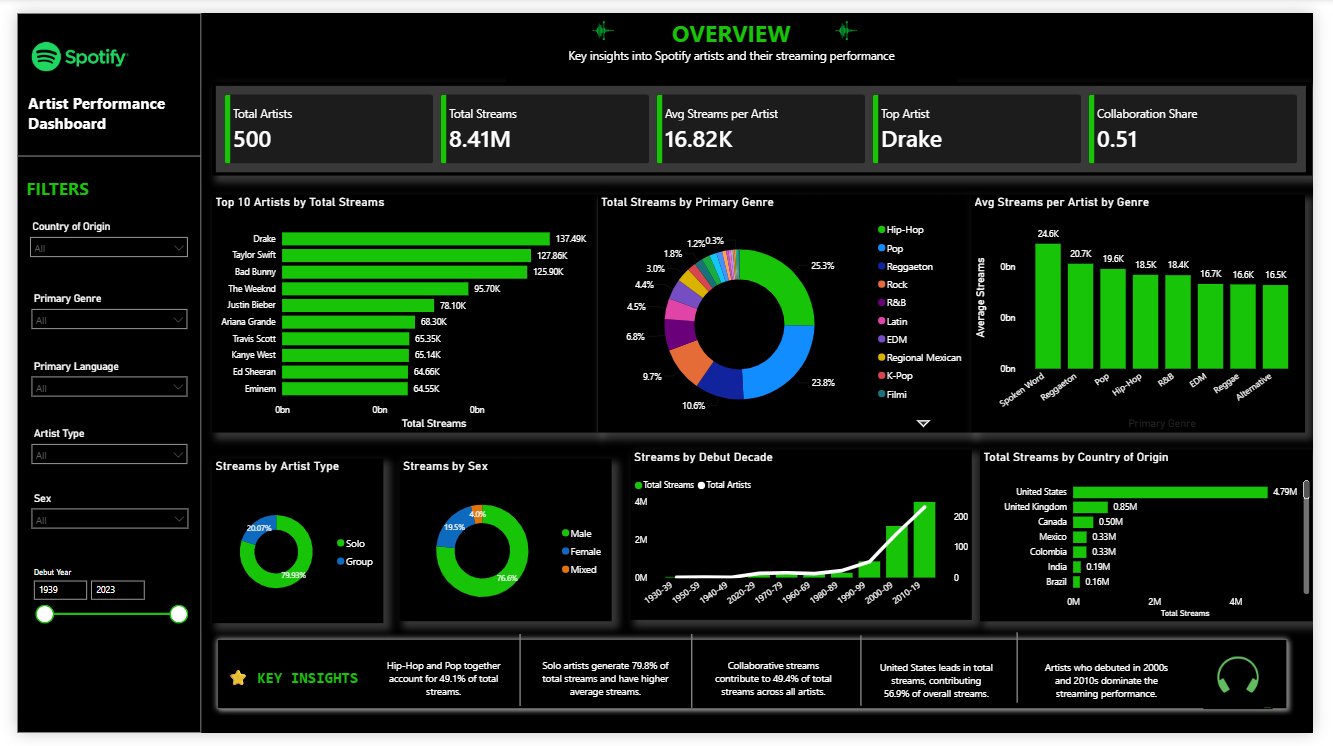

The dashboard page shown, as its layout file describes it:
{"tool":"powerbi","page":{"name":"Page 1","canvas":[1800,1000],"ordinal":0},"visuals":[{"type":"shape","box":[0,0,255.9,1000],"z":0},{"type":"image","box":[0,0,176.2,121.2],"z":1000},{"type":"textbox","box":[10,105,225,76.2],"z":2000},{"type":"slicer","fields":{"Values":["Most Streamed Artists on Spotif.Country of Origin"]},"box":[8.6,282.9,238.6,82.9],"z":3000},{"type":"shape","box":[0,170,255.7,55.7],"z":4000},{"type":"textbox","box":[8.6,221.4,237.1,61.4],"z":5000},{"type":"slicer","fields":{"Values":["Most Streamed Artists on Spotif.Primary Genre"]},"box":[10,382.9,235.7,77.1],"z":6000},{"type":"slicer","fields":{"Values":["Most Streamed Artists on Spotif.Primary Language"]},"box":[10,477.1,235.7,78.6],"z":7000},{"type":"slicer","fields":{"Values":["Most Streamed Artists on Spotif. Artist Type"]},"box":[10,570,235.7,75.7],"z":8000},{"type":"slicer","fields":{"Values":["Most Streamed Artists on Spotif.Sex"]},"box":[10,660,237.1,81.4],"z":9000},{"type":"slicer","fields":{"Values":["Most Streamed Artists on Spotif.Debut Year"]},"box":[11.4,764.3,235.7,95.7],"z":10000},{"type":"clusteredBarChart","title":"Top 10 Artists by Total Streams","fields":{"Y":["Most Streamed Artists on Spotif.Total Streams"],"Category":["Most Streamed Artists on Spotif.Artist Name"]},"box":[271.7,252.2,534.8,330.4],"z":11000},{"type":"donutChart","title":"Total Streams by Primary Genre","fields":{"Category":["Most Streamed Artists on Spotif.Primary Genre"],"Y":["Most Streamed Artists on Spotif.Total Streams"]},"box":[806.5,252.2,519.6,330.4],"z":12000},{"type":"clusteredColumnChart","title":"Avg Streams per Artist by Genre","fields":{"Category":["Most Streamed Artists on Spotif.Primary Genre"],"Y":["Most Streamed Artists on Spotif.Avg Streams per Artist"]},"box":[1325.7,252.6,464.1,330.9],"z":13000},{"type":"donutChart","title":"Streams by Artist Type","fields":{"Category":["Most Streamed Artists on Spotif.Artist Type"],"Y":["Most Streamed Artists on Spotif.Total Streams"]},"box":[270.8,619.4,237.9,228.4],"z":14000},{"type":"donutChart","title":"Streams by Sex","fields":{"Category":["Most Streamed Artists on Spotif.Sex"],"Y":["Most Streamed Artists on Spotif.Total Streams"]},"box":[532.2,619.4,294.4,226.1],"z":15000},{"type":"lineStackedColumnComboChart","title":"Streams by Debut Decade","fields":{"Category":["Most Streamed Artists on Spotif.Debut Decade Range"],"Y":["Most Streamed Artists on Spotif.Total Streams"],"Y2":["Most Streamed Artists on Spotif.Total Artists"]},"box":[851.8,607.1,473.9,237],"z":16000},{"type":"clusteredBarChart","fields":{"Category":["Most Streamed Artists on Spotif.Country of Origin"],"Y":["Most Streamed Artists on Spotif.Total Streams"]},"box":[1337.5,607.1,462.2,238.9],"z":17000},{"type":"cardVisual","fields":{"Data":["Most Streamed Artists on Spotif.Total Artists","Most Streamed Artists on Spotif.Total Streams","Most Streamed Artists on Spotif.Avg Streams per Artist","Most Streamed Artists on Spotif.Top Artist","Most Streamed Artists on Spotif.Collaboration Share"]},"box":[271.4,95.5,1528.3,130.2],"z":18000},{"type":"shape","box":[269.6,860.9,1504.3,115.2],"z":19000},{"type":"textbox","box":[678.3,0,626.1,95.7],"z":20000},{"type":"textbox","box":[286.5,903.1,197.8,45.7],"z":21000},{"type":"textbox","box":[506.5,891.3,172.5,70],"z":22000},{"type":"shape","box":[678.3,863,39.1,100],"z":23000},{"type":"textbox","box":[715.2,891.3,205,70],"z":24000},{"type":"shape","box":[921.7,863,32.5,102.5],"z":25000},{"type":"textbox","box":[954.3,891.3,192.5,70],"z":26000},{"type":"shape","box":[1152.2,865.2,40,97.5],"z":27000},{"type":"textbox","box":[1191.3,893.5,170,70],"z":28000},{"type":"shape","box":[1360.9,860.9,57.5,97.5],"z":29000},{"type":"textbox","box":[1417.4,893.5,192.5,70],"z":30000},{"type":"image","box":[1645.7,871.7,100,95.7],"z":31000},{"type":"image","box":[728.3,0,171.5,47.8],"z":32000},{"type":"image","box":[1067.4,0,171.5,47.8],"z":33000}]}

Visuals, with their boxes in screenshot pixels (x1, y1, x2, y2), scaled from the page's 1800x1000 canvas onto the 1333x746 screenshot:
shape: left=0, top=0, right=190, bottom=745
image: left=0, top=0, right=130, bottom=90
textbox: left=7, top=78, right=174, bottom=135
slicer - Most Streamed Artists on Spotif.Country of Origin: left=6, top=211, right=183, bottom=273
shape: left=0, top=127, right=189, bottom=168
textbox: left=6, top=165, right=182, bottom=211
slicer - Most Streamed Artists on Spotif.Primary Genre: left=7, top=286, right=182, bottom=343
slicer - Most Streamed Artists on Spotif.Primary Language: left=7, top=356, right=182, bottom=415
slicer - Most Streamed Artists on Spotif. Artist Type: left=7, top=425, right=182, bottom=482
slicer - Most Streamed Artists on Spotif.Sex: left=7, top=492, right=183, bottom=553
slicer - Most Streamed Artists on Spotif.Debut Year: left=8, top=570, right=183, bottom=642
"Top 10 Artists by Total Streams" clusteredBarChart: left=201, top=188, right=597, bottom=435
"Total Streams by Primary Genre" donutChart: left=597, top=188, right=982, bottom=435
"Avg Streams per Artist by Genre" clusteredColumnChart: left=982, top=188, right=1325, bottom=435
"Streams by Artist Type" donutChart: left=201, top=462, right=377, bottom=632
"Streams by Sex" donutChart: left=394, top=462, right=612, bottom=631
"Streams by Debut Decade" lineStackedColumnComboChart: left=631, top=453, right=982, bottom=630
clusteredBarChart - Most Streamed Artists on Spotif.Country of Origin x Most Streamed Artists on Spotif.Total Streams: left=990, top=453, right=1332, bottom=631
cardVisual - Most Streamed Artists on Spotif.Total Artists x Most Streamed Artists on Spotif.Total Streams: left=201, top=71, right=1332, bottom=168
shape: left=200, top=642, right=1314, bottom=728
textbox: left=502, top=0, right=966, bottom=71
textbox: left=212, top=674, right=359, bottom=708
textbox: left=375, top=665, right=503, bottom=717
shape: left=502, top=644, right=531, bottom=718
textbox: left=530, top=665, right=681, bottom=717
shape: left=683, top=644, right=707, bottom=720
textbox: left=707, top=665, right=849, bottom=717
shape: left=853, top=645, right=883, bottom=718
textbox: left=882, top=667, right=1008, bottom=719
shape: left=1008, top=642, right=1050, bottom=715
textbox: left=1050, top=667, right=1192, bottom=719
image: left=1219, top=650, right=1293, bottom=722
image: left=539, top=0, right=666, bottom=36
image: left=790, top=0, right=917, bottom=36
